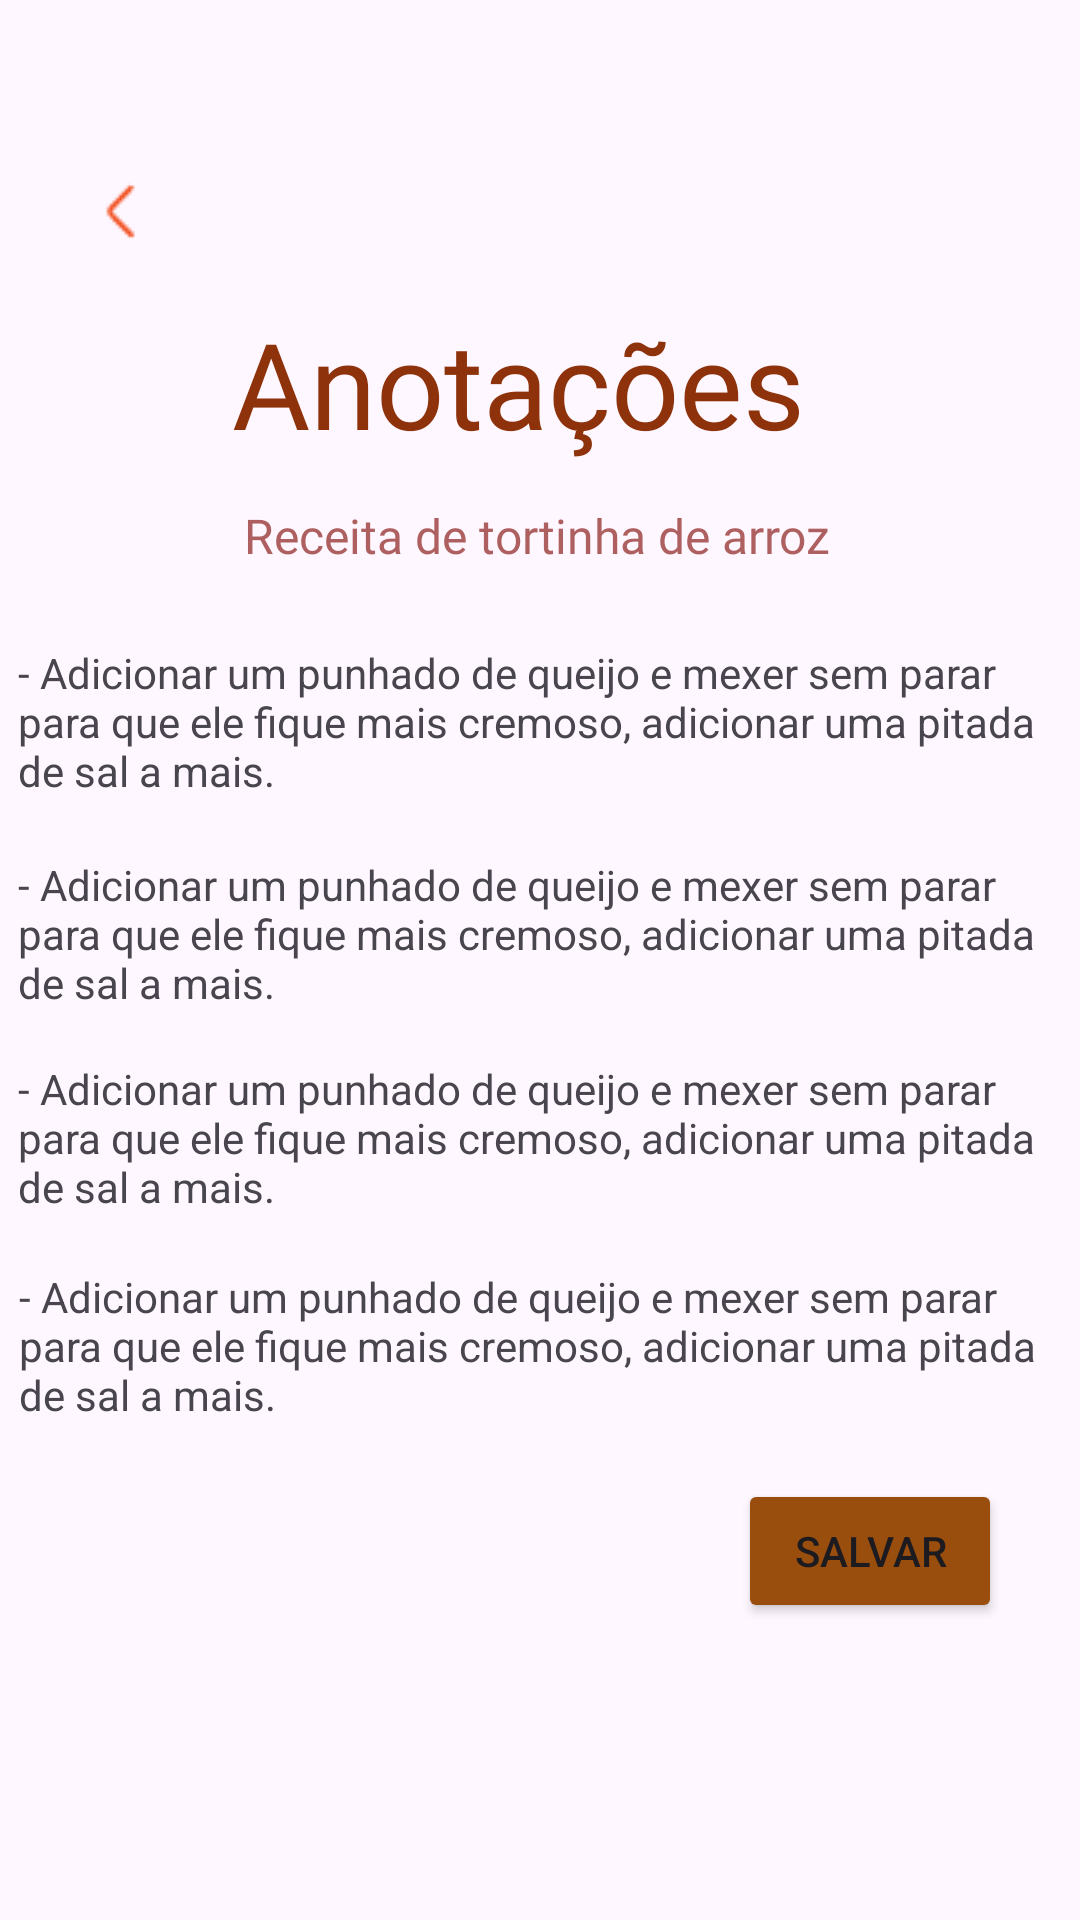

Locate icon controls on the screen. Image size 1080x1920, boxes as (x1, y1, x2, y2).
setadesaida: (106, 185, 135, 238)
